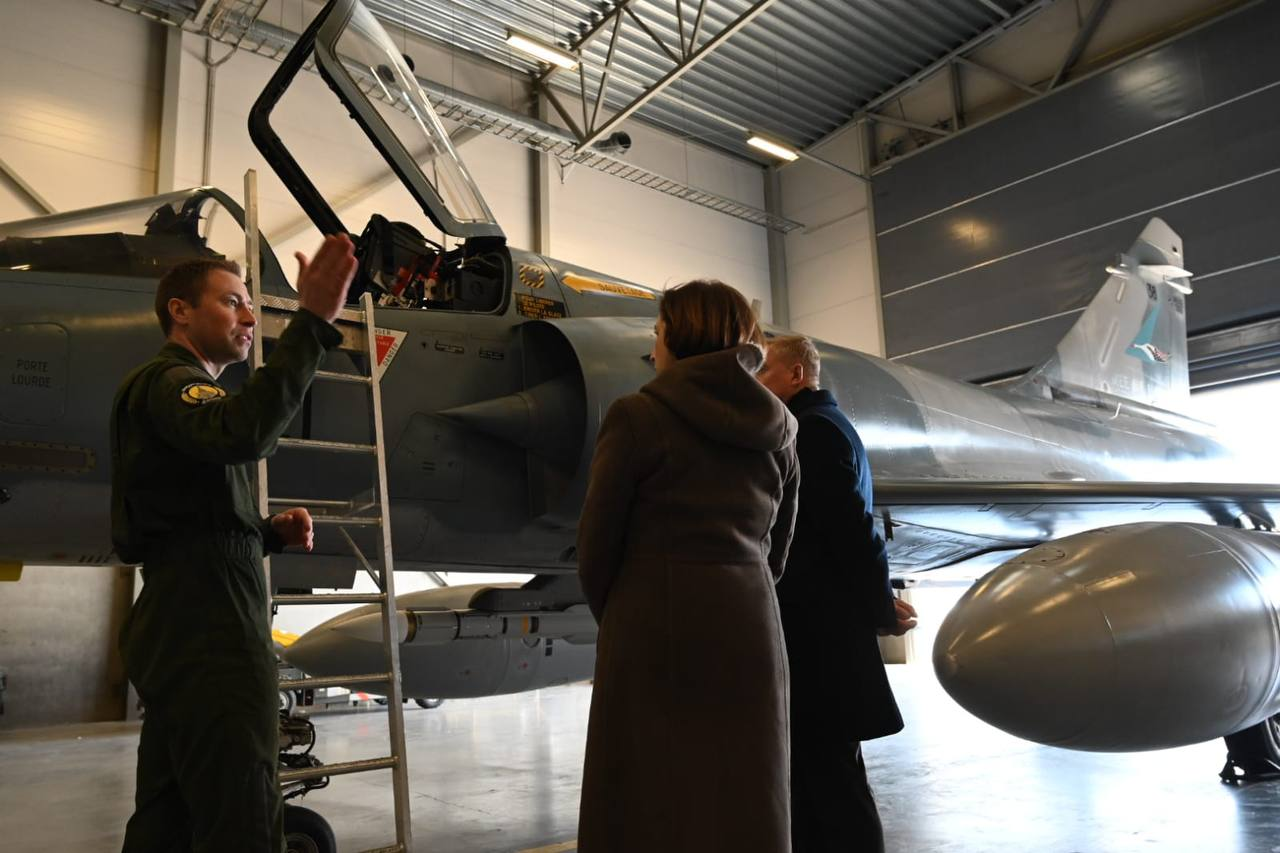Mirage2000: (1, 1, 1280, 853)
